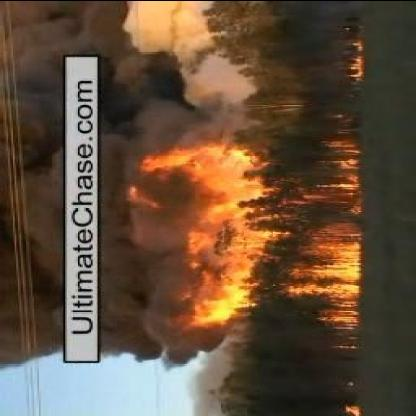-: (5, 97, 60, 367)
foggia-v2-map80-epoch100 - v1 4323: (293, 240, 359, 292)
